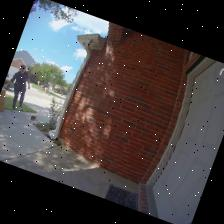person: (4, 65, 29, 112)
